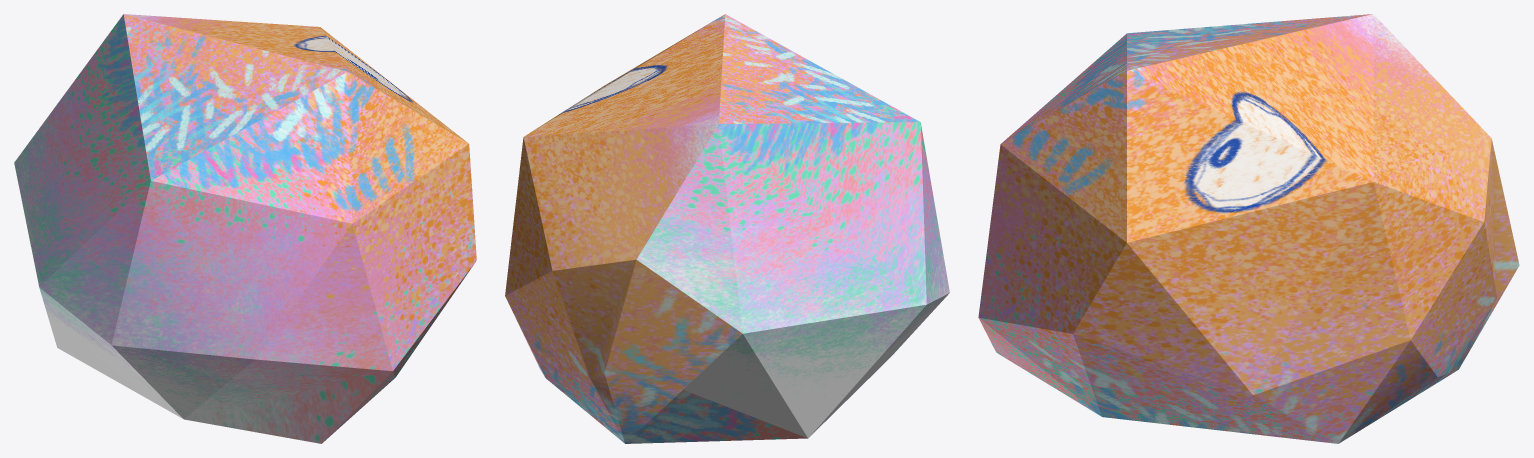
Rendered from rock1.fbx.
The picture shows the model from 3 angles, left to right: view 1: azimuth 30°, elevation 25°; view 2: azimuth 150°, elevation 25°; view 3: azimuth 270°, elevation 25°; orthographic projection. The views are drawn at different scales.
Parts seen in each view (by area): view 1: Rock6; view 2: Rock6; view 3: Rock6.
Boxes of the visible parts, x1,y1,x2,y2 form: Rock6: [14, 14, 476, 443]; Rock6: [505, 14, 949, 443]; Rock6: [978, 14, 1519, 443].
Bounding box in the file's own units: 16.7 × 12.64 × 18.94.
